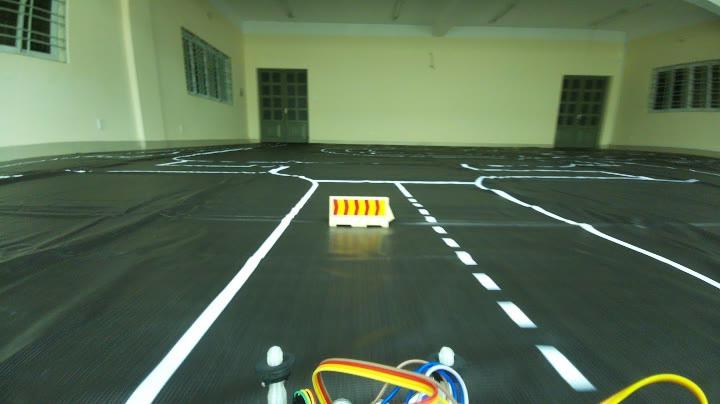roadblock: (324, 190, 404, 240)
